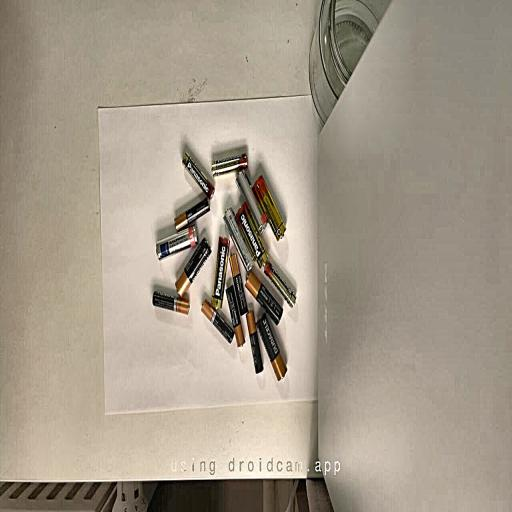DuracellAA: (175, 238, 211, 297), (256, 314, 287, 380), (245, 270, 282, 324)
DuracellAAA: (201, 299, 234, 342), (229, 252, 248, 315), (226, 284, 244, 348), (175, 197, 209, 230), (246, 310, 263, 373), (152, 291, 189, 314)
PanasonicAA: (234, 202, 268, 267), (252, 176, 285, 240), (211, 238, 229, 309)
PanasonicAAA: (264, 260, 296, 306), (182, 152, 213, 198), (211, 153, 248, 177)
RainbowAA: (236, 169, 267, 233), (224, 208, 254, 271), (156, 225, 198, 260)
